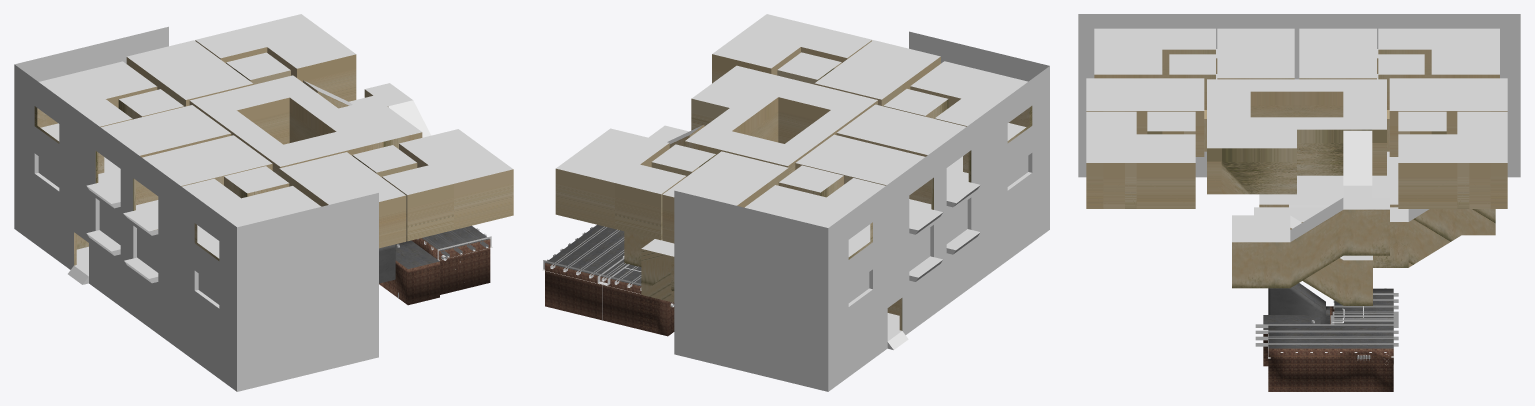
The model's file is hotel.fbx.
3 renders of one model, left to right at view 1: azimuth 30°, elevation 25°; view 2: azimuth 150°, elevation 25°; view 3: azimuth 270°, elevation 25°, orthographic.
Parts seen in each view (by area): view 1: Cube.005, Cube.006, Cube.008, Cube.002, Basement, Cube.003, STAIRS, Basement_roof; view 2: Cube.005, Cube.008, Cube.002, Cube.006, Basement, Cube.009, Cube.003, Basement_roof; view 3: Cube.005, Cube.002, Cube.006, Cube.008, Cube.003, Basement, Cube.009, Basement_roof, STAIRS.
Boxes of the visible parts, <box> form: Cube.005: <box>14,26,378,391</box>; Cube.006: <box>279,129,513,248</box>; Cube.008: <box>126,14,356,106</box>; Cube.002: <box>189,75,422,175</box>; Basement: <box>379,225,490,305</box>; Cube.003: <box>303,80,430,137</box>; STAIRS: <box>379,244,395,283</box>; Basement_roof: <box>417,227,492,260</box>; Cube.005: <box>674,31,1049,391</box>; Cube.008: <box>555,128,788,243</box>; Cube.002: <box>684,65,877,174</box>; Cube.006: <box>712,14,940,106</box>; Basement: <box>545,224,674,336</box>; Cube.009: <box>641,239,899,338</box>; Cube.003: <box>624,125,704,266</box>; Basement_roof: <box>542,226,641,320</box>; Cube.005: <box>1078,14,1520,177</box>; Cube.002: <box>1207,79,1386,194</box>; Cube.006: <box>1086,78,1206,208</box>; Cube.008: <box>1387,78,1507,208</box>; Cube.003: <box>1232,130,1389,305</box>; Basement: <box>1263,288,1393,391</box>; Cube.009: <box>1254,151,1495,267</box>; Basement_roof: <box>1255,288,1398,363</box>; STAIRS: <box>1268,283,1329,324</box>.
Size of what is drawn, in the model's own units: 2806 by 1589 by 2993.
